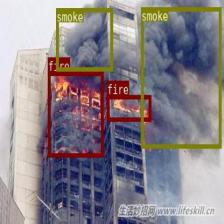fire: (47, 72, 103, 156), (106, 94, 150, 120)
smoke: (140, 7, 221, 147), (56, 7, 112, 71)
